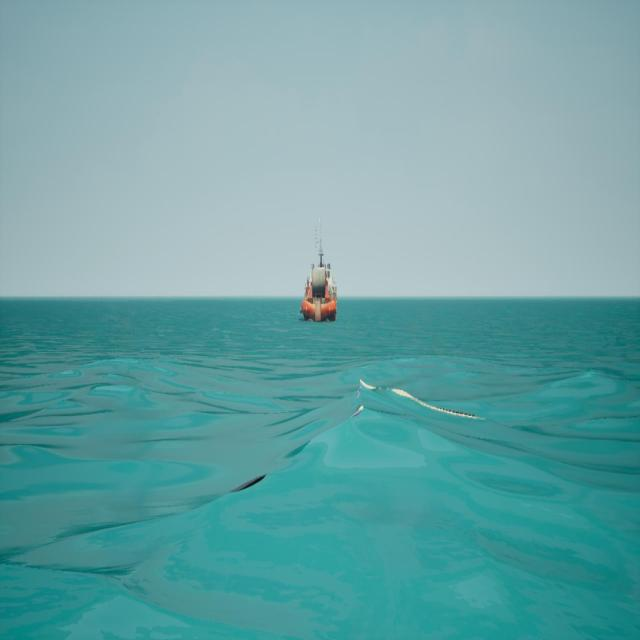tug boat: (300, 220, 340, 325)
